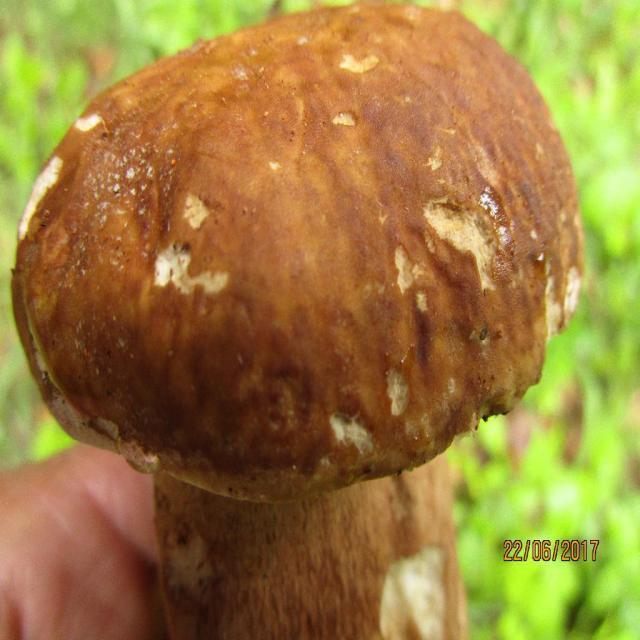Boletus: (11, 8, 580, 640)
